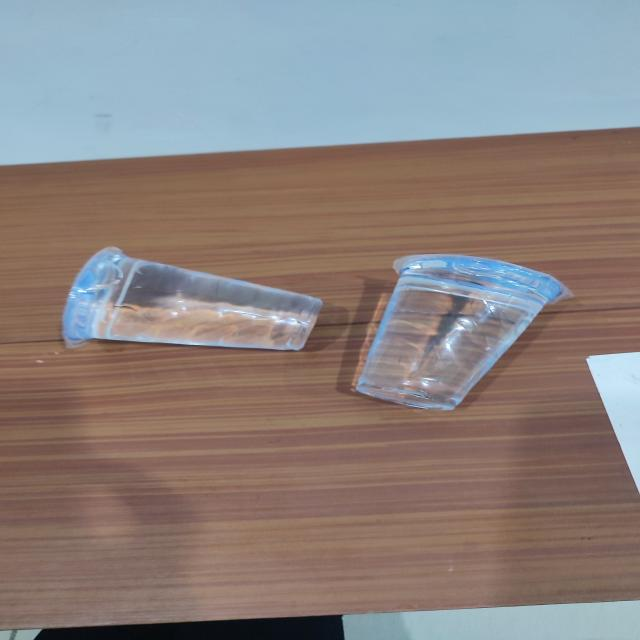air gelas: (347, 251, 559, 415), (55, 239, 331, 356)
